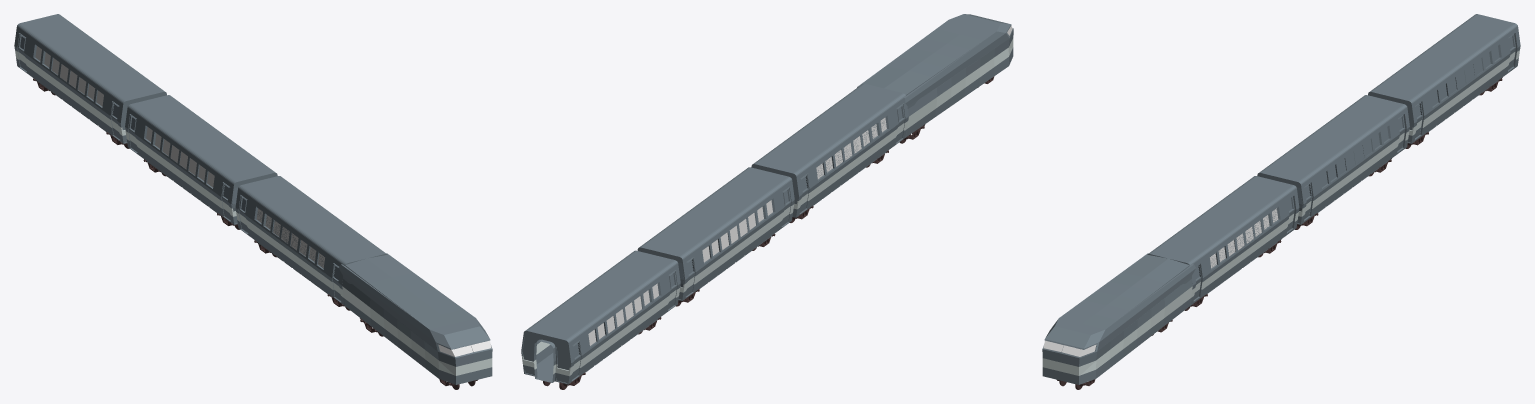
The model's file is Train2.fbx.
3 views of the same model, side by side, from view 1: azimuth 30°, elevation 25°; view 2: azimuth 150°, elevation 25°; view 3: azimuth 330°, elevation 25° (orthographic). The views are drawn at different scales.
Visible parts, largest first — view 1: Cube.010, Cube, Cube.034, Cube.018, Cube.035, Cube.013, Cube.005, Cube.021, Cube.029, Cube.015, Cube.007, Cube.023; view 2: Cube.010, Cube, Cube.018, Cube.034, Cube.013, Cube.021, Cube.035, Cube.005, Cube.029, Cube.007, Cube.015, Cube.023; view 3: Cube.018, Cube.034, Cube.005, Cube.013, Cube.010, Cube.035, Cube, Cube.021, Cube.029.
Boxes of the visible parts, x1=… form: Cube.010: x1=14, y1=14, x2=166, y2=143; Cube: x1=125, y1=95, x2=276, y2=224; Cube.034: x1=290, y1=232, x2=491, y2=384; Cube.018: x1=235, y1=176, x2=385, y2=304; Cube.035: x1=339, y1=253, x2=492, y2=384; Cube.013: x1=17, y1=14, x2=166, y2=143; Cube.005: x1=129, y1=95, x2=277, y2=224; Cube.021: x1=236, y1=177, x2=386, y2=303; Cube.029: x1=235, y1=198, x2=342, y2=301; Cube.015: x1=18, y1=33, x2=119, y2=140; Cube.007: x1=128, y1=114, x2=230, y2=221; Cube.023: x1=239, y1=195, x2=341, y2=302; Cube.010: x1=521, y1=251, x2=680, y2=384; Cube: x1=637, y1=167, x2=794, y2=300; Cube.018: x1=751, y1=84, x2=908, y2=217; Cube.034: x1=850, y1=20, x2=1013, y2=178; Cube.013: x1=521, y1=250, x2=677, y2=383; Cube.021: x1=752, y1=86, x2=907, y2=216; Cube.035: x1=857, y1=14, x2=1013, y2=137; Cube.005: x1=637, y1=167, x2=791, y2=300; Cube.029: x1=752, y1=115, x2=908, y2=217; Cube.007: x1=686, y1=187, x2=790, y2=297; Cube.015: x1=571, y1=270, x2=677, y2=380; Cube.023: x1=799, y1=103, x2=904, y2=213; Cube.018: x1=1148, y1=176, x2=1299, y2=304; Cube.034: x1=1043, y1=232, x2=1244, y2=384; Cube.005: x1=1258, y1=96, x2=1409, y2=224; Cube.013: x1=1368, y1=15, x2=1520, y2=143; Cube.010: x1=1368, y1=14, x2=1517, y2=143; Cube.035: x1=1042, y1=253, x2=1195, y2=384; Cube: x1=1257, y1=95, x2=1406, y2=224; Cube.021: x1=1150, y1=176, x2=1298, y2=303; Cube.029: x1=1192, y1=195, x2=1299, y2=301.
Size of the model in its own units: 435 by 477 by 6503.
